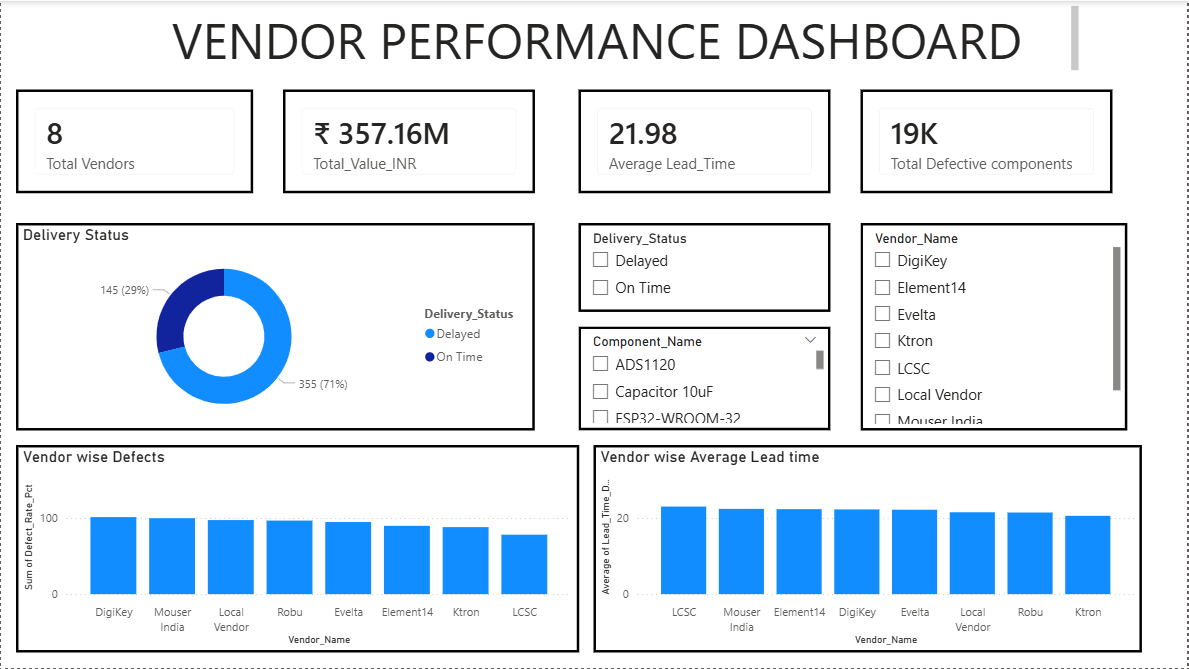

The dashboard page shown, as its layout file describes it:
{"tool":"powerbi","page":{"name":"Page 1","canvas":[1280,720],"ordinal":0},"visuals":[{"type":"cardVisual","fields":{"Data":["Count(Vendor_Performance.Vendor_Name)"]},"box":[16,96,256,112],"z":0},{"type":"cardVisual","fields":{"Data":["Sum(Vendor_Performance.Total_Value_INR)"]},"box":[304,96,272,112],"z":1000},{"type":"cardVisual","fields":{"Data":["Avg(Vendor_Performance.Lead_Time_Days)"]},"box":[624,96,272,112],"z":2000},{"type":"cardVisual","fields":{"Data":["Sum(Vendor_Performance.Defect_Qty)"]},"box":[928,96,272,112],"z":3000},{"type":"donutChart","title":"Delivery Status","fields":{"Category":["Vendor_Performance.Delivery_Status"],"Y":["CountNonNull(Vendor_Performance.PO_ID)"]},"box":[16,240,560,224],"z":4000},{"type":"columnChart","title":"Vendor wise Average Lead time","fields":{"Y":["Avg(Vendor_Performance.Lead_Time_Days)"],"Category":["Vendor_Performance.Vendor_Name"]},"box":[640,480,592,224],"z":5000},{"type":"columnChart","title":"Vendor wise Defects","fields":{"Y":["Sum(Vendor_Performance.Defect_Rate_Pct)"],"Category":["Vendor_Performance.Vendor_Name"]},"box":[16,480,608,224],"z":6000},{"type":"slicer","fields":{"Values":["Vendor_Performance.Vendor_Name"]},"box":[928,240,288,224],"z":7000},{"type":"slicer","fields":{"Values":["Vendor_Performance.Delivery_Status"]},"box":[624,240,272,96],"z":8000},{"type":"slicer","fields":{"Values":["Vendor_Performance.Component_Name"]},"box":[624,352,272,112],"z":9000},{"type":"textbox","box":[128,0,1040,80],"z":10000}]}

Visuals, with their boxes in screenshot pixels (x1, y1, x2, y2), scaled from the page's 1280x720 canvas onto the 1189x669 screenshot:
cardVisual - Count(Vendor_Performance.Vendor_Name): rect(15, 89, 253, 193)
cardVisual - Sum(Vendor_Performance.Total_Value_INR): rect(282, 89, 535, 193)
cardVisual - Avg(Vendor_Performance.Lead_Time_Days): rect(580, 89, 832, 193)
cardVisual - Sum(Vendor_Performance.Defect_Qty): rect(862, 89, 1115, 193)
"Delivery Status" donutChart: rect(15, 223, 535, 431)
"Vendor wise Average Lead time" columnChart: rect(594, 446, 1144, 654)
"Vendor wise Defects" columnChart: rect(15, 446, 580, 654)
slicer - Vendor_Performance.Vendor_Name: rect(862, 223, 1130, 431)
slicer - Vendor_Performance.Delivery_Status: rect(580, 223, 832, 312)
slicer - Vendor_Performance.Component_Name: rect(580, 327, 832, 431)
textbox: rect(119, 0, 1085, 74)
